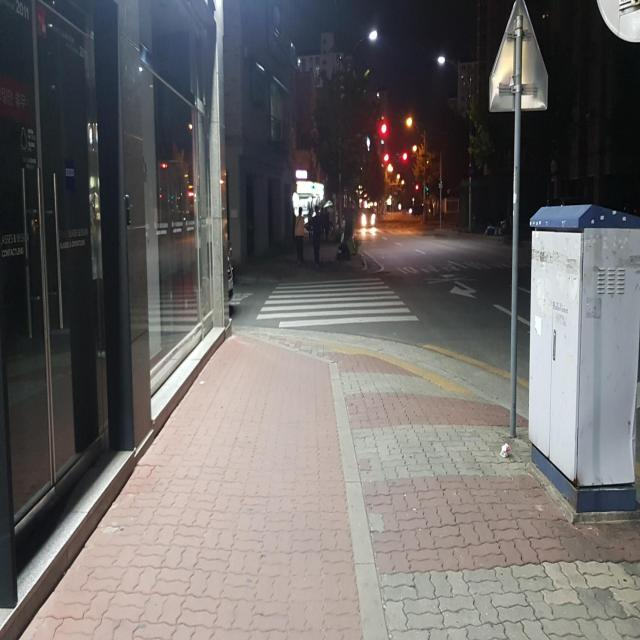횡단보도: (256, 277, 419, 329)
